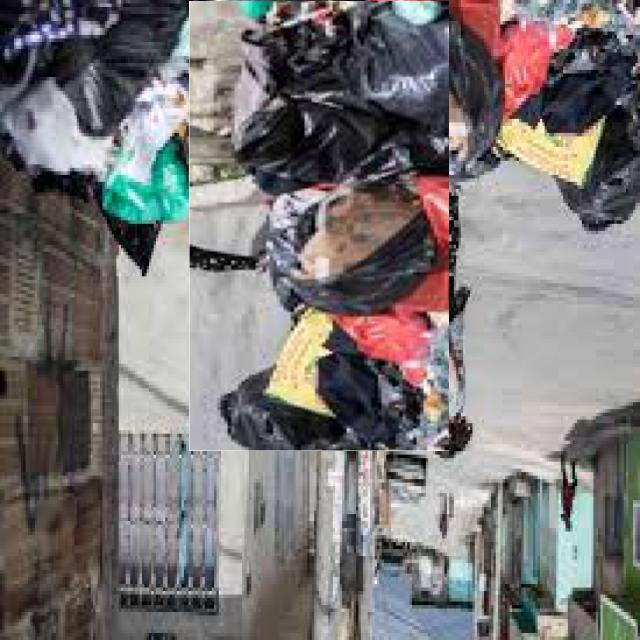Trashbag: (213, 343, 411, 458), (277, 19, 452, 120), (237, 103, 384, 197)
